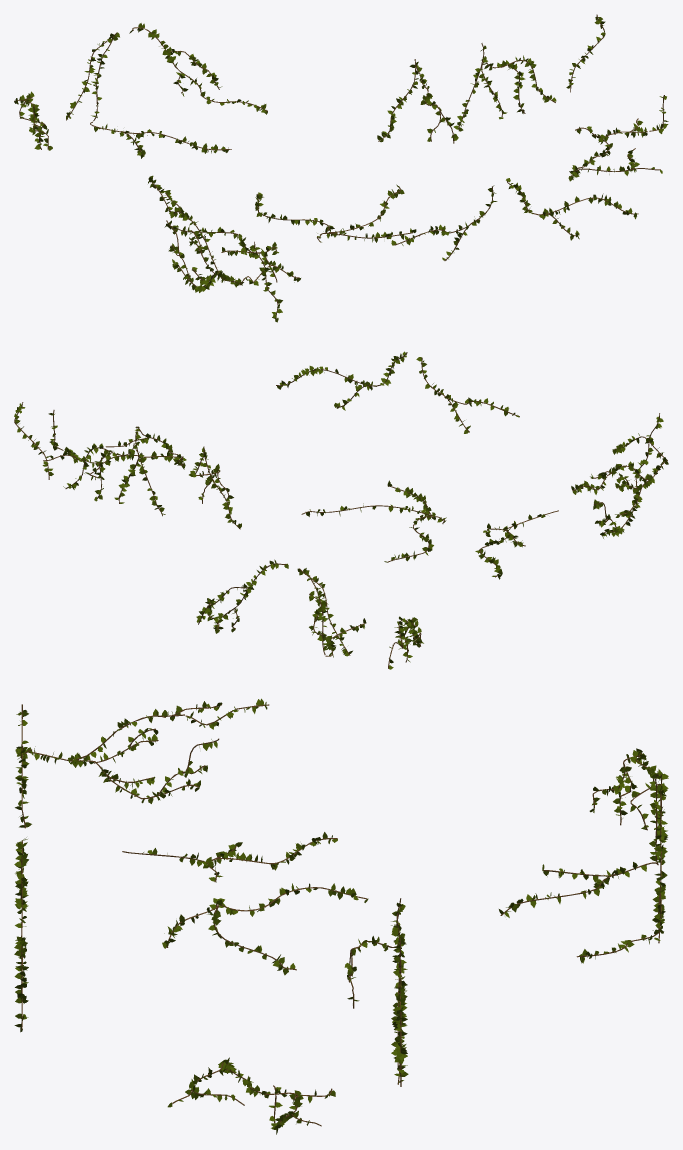
File: Map1_vines.fbx
The picture shows the model from 3 angles, top to bottom: view 1: azimuth 30°, elevation 25°; view 2: azimuth 150°, elevation 25°; view 3: azimuth 270°, elevation 25°; orthographic projection. The views are drawn at different scales.
Visible parts, largest first — view 1: Map 5 Vine; view 2: Map 5 Vine; view 3: Map 5 Vine.
Part boxes in pixels (x1,y1,x2,y2): Map 5 Vine: (14,14,668,322); Map 5 Vine: (14,351,668,669); Map 5 Vine: (14,698,668,1134).
Size of the model in its own units: 4857 by 864 by 4061.
